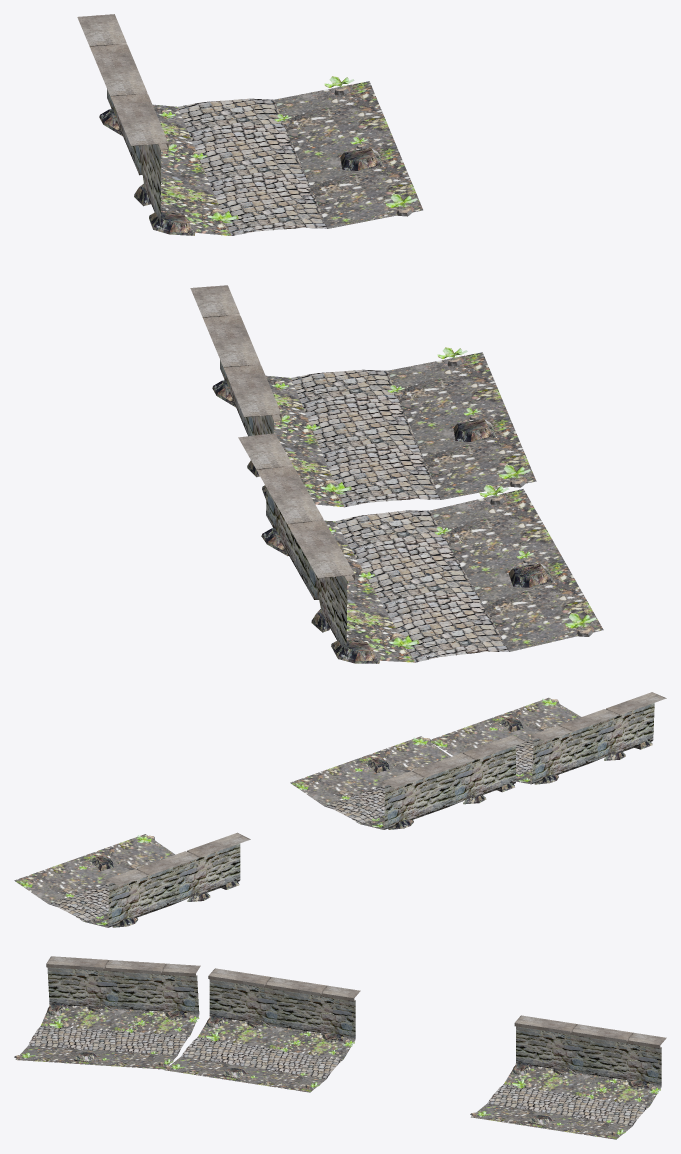
The model's file is ruela_pedra.glb.
3 renders of one model, top to bottom at view 1: azimuth 30°, elevation 25°; view 2: azimuth 150°, elevation 25°; view 3: azimuth 270°, elevation 25°, orthographic. The views are drawn at different scales.
Parts seen in each view (by area): view 1: ruela4, ruela1, ruela3; view 2: ruela1, ruela3, ruela4; view 3: ruela3, ruela1, ruela4.
Boxes of the visible parts, x1,y1,x2,y2 form: ruela4: (238, 433, 603, 663); ruela1: (77, 14, 422, 235); ruela3: (190, 285, 536, 507); ruela1: (14, 832, 250, 927); ruela3: (290, 735, 526, 829); ruela4: (430, 692, 666, 784); ruela3: (164, 968, 360, 1092); ruela1: (470, 1015, 666, 1139); ruela4: (14, 956, 200, 1069).
Size of the model in its own units: 5.35 by 0.9705 by 9.82.
Materials: 6 (5 with a texture image).
